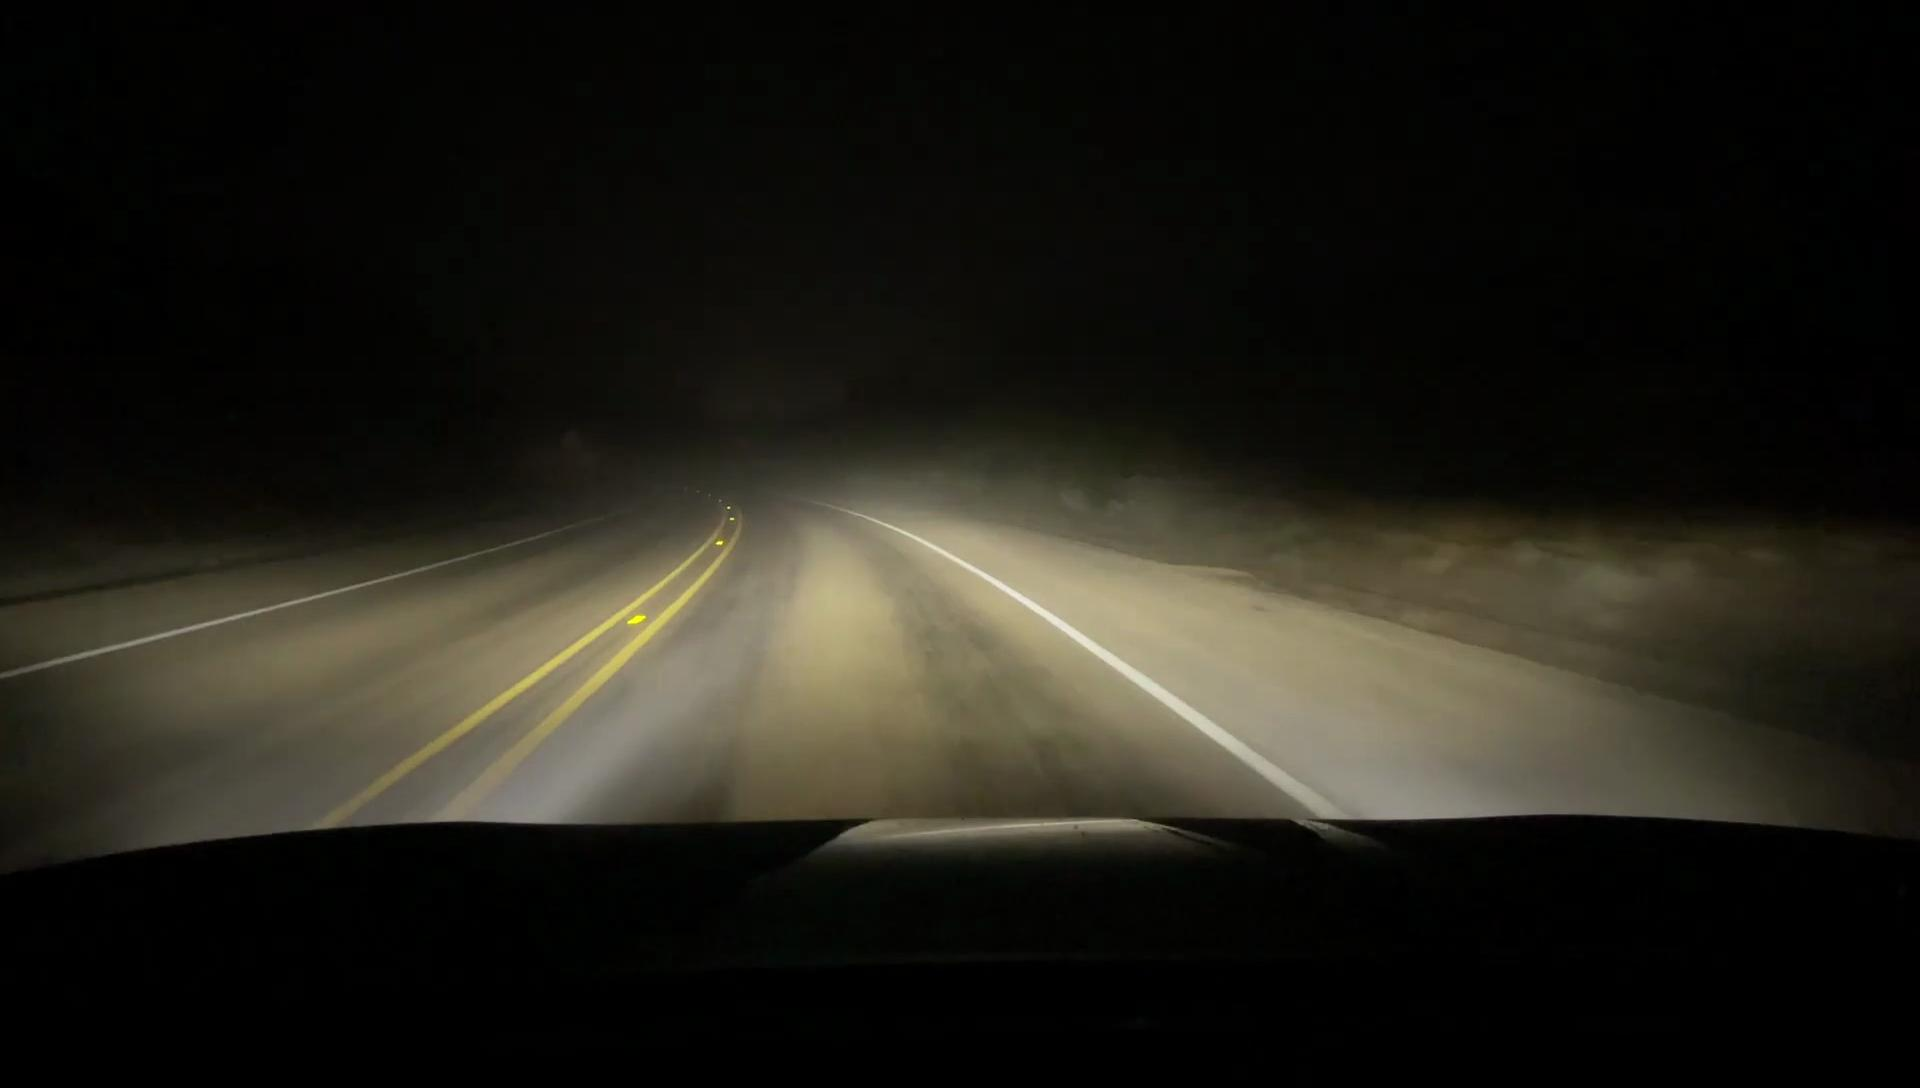road-lanes: (489, 495, 1287, 804)
